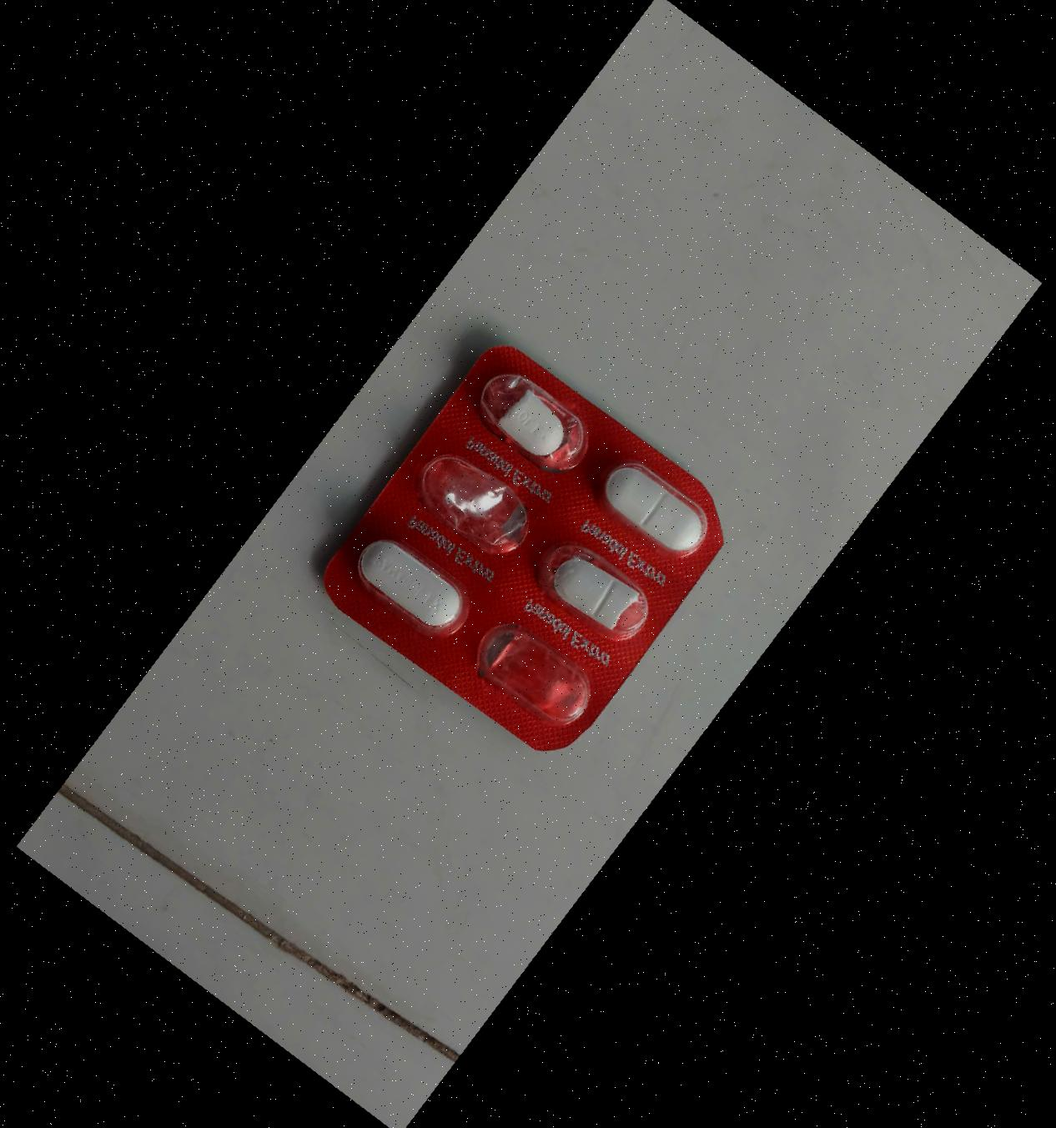Empty: (458, 606, 612, 742), (400, 434, 554, 569)
Full: (578, 439, 732, 575), (335, 519, 488, 655)
Partial: (457, 355, 611, 491), (520, 524, 674, 660)
